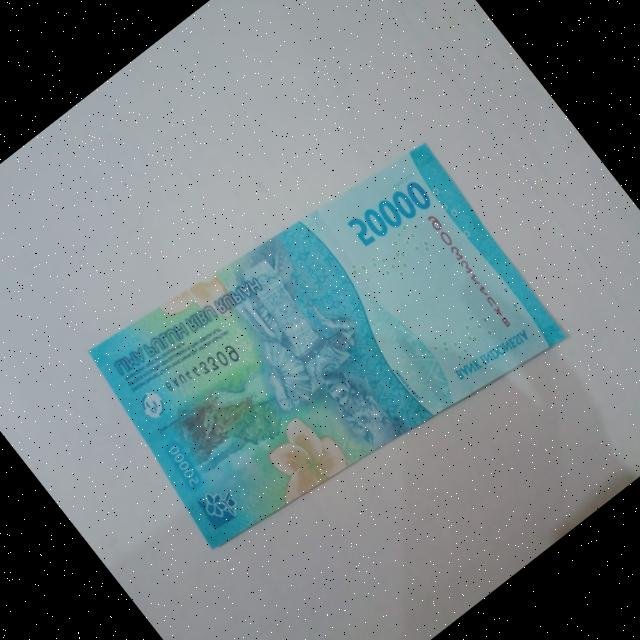50K: (60, 102, 584, 602)
